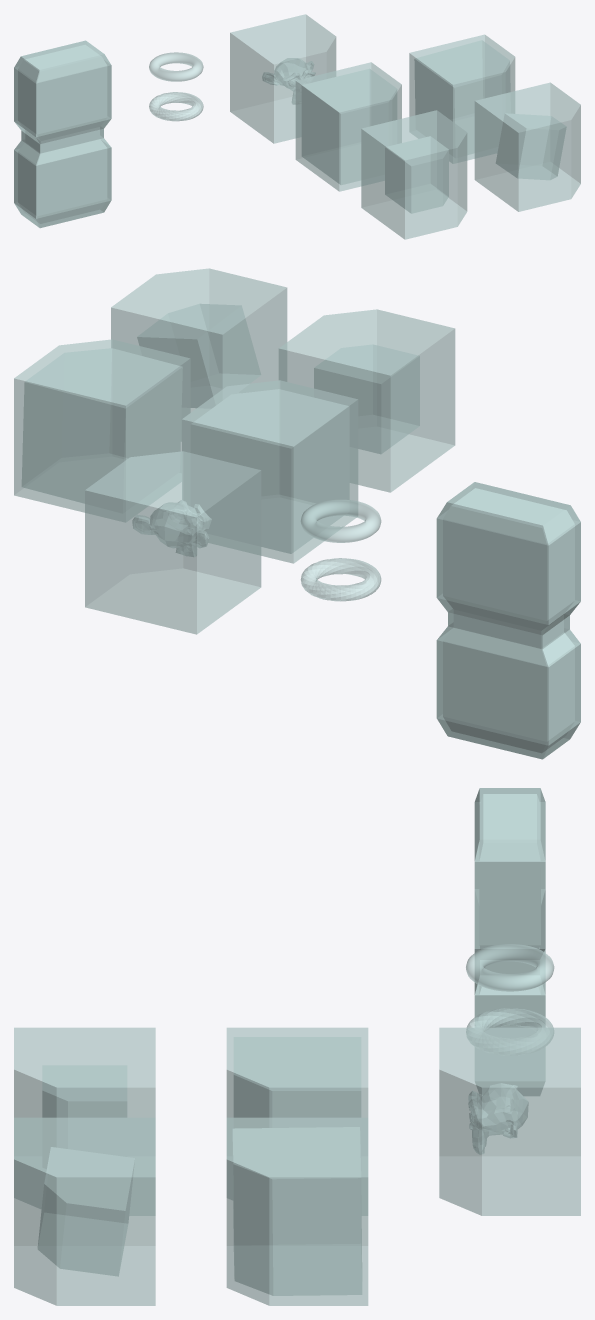
The model's file is clear.fbx.
3 views of the same model, one above another, from view 1: azimuth 30°, elevation 25°; view 2: azimuth 150°, elevation 25°; view 3: azimuth 270°, elevation 25° (orthographic). The views are drawn at different scales.
Visible parts, largest first — view 1: Cube, Cube.004, Cube.008, Cube.001, Cube.002, Cube.006, Cube.003, Cube.007, Cube.005, Cube.009, Torus, TwistedTorus (+1 smaller); view 2: Cube, Cube.001, Cube.006, Cube.004, Cube.002, Cube.007, Cube.008, Cube.003, Cube.005, Cube.009, Suzanne, Torus (+1 smaller); view 3: Cube.006, Cube.001, Cube.008, Cube.007, Cube, Cube.004, Cube.002, Cube.003, Cube.009, Cube.005, Torus, TwistedTorus (+1 smaller).
Boxes of the visible parts, bbox=[...] form: Cube: bbox=[14, 40, 111, 228]; Cube.004: bbox=[361, 110, 467, 239]; Cube.008: bbox=[474, 82, 580, 211]; Cube.001: bbox=[230, 14, 336, 143]; Cube.002: bbox=[295, 62, 401, 191]; Cube.006: bbox=[409, 34, 515, 163]; Cube.003: bbox=[302, 69, 396, 184]; Cube.007: bbox=[414, 40, 510, 154]; Cube.005: bbox=[385, 136, 448, 213]; Cube.009: bbox=[496, 113, 566, 179]; Torus: bbox=[149, 52, 203, 81]; TwistedTorus: bbox=[149, 92, 203, 121]; Cube: bbox=[436, 482, 580, 759]; Cube.001: bbox=[85, 451, 261, 634]; Cube.006: bbox=[14, 339, 190, 522]; Cube.004: bbox=[278, 309, 455, 492]; Cube.002: bbox=[182, 380, 358, 563]; Cube.007: bbox=[22, 348, 182, 503]; Cube.008: bbox=[111, 268, 287, 441]; Cube.003: bbox=[191, 389, 349, 553]; Cube.005: bbox=[314, 344, 419, 453]; Cube.009: bbox=[137, 304, 260, 407]; Suzanne: bbox=[132, 500, 211, 556]; Torus: bbox=[300, 499, 381, 542]; Cube.006: bbox=[226, 1117, 368, 1305]; Cube.001: bbox=[439, 1027, 580, 1215]; Cube.008: bbox=[14, 1117, 155, 1305]; Cube.007: bbox=[233, 1127, 361, 1295]; Cube: bbox=[474, 788, 545, 1095]; Cube.004: bbox=[14, 1027, 155, 1215]; Cube.002: bbox=[226, 1027, 368, 1215]; Cube.003: bbox=[234, 1037, 360, 1117]; Cube.009: bbox=[38, 1147, 134, 1276]; Cube.005: bbox=[42, 1065, 126, 1117]; Torus: bbox=[466, 944, 554, 991]; TwistedTorus: bbox=[466, 1008, 553, 1055].
Bounding box in the file's own units: 1100 × 400 × 800.
